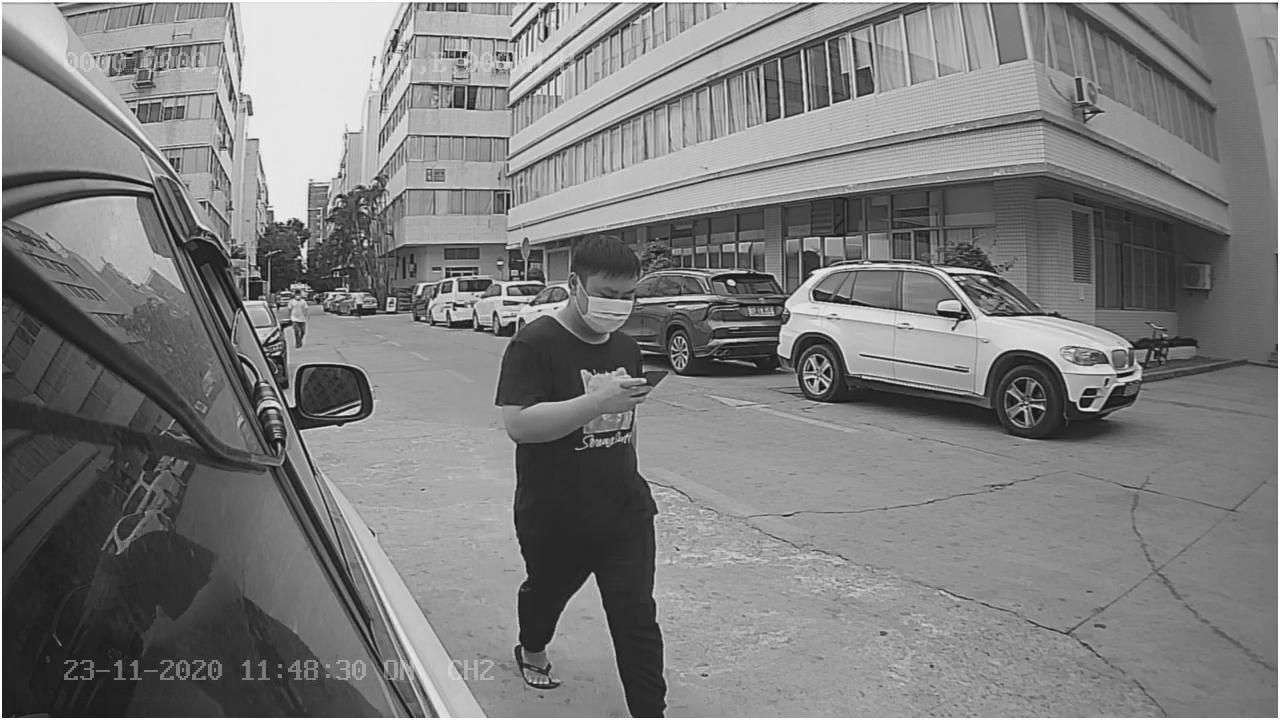person: (484, 221, 665, 463)
